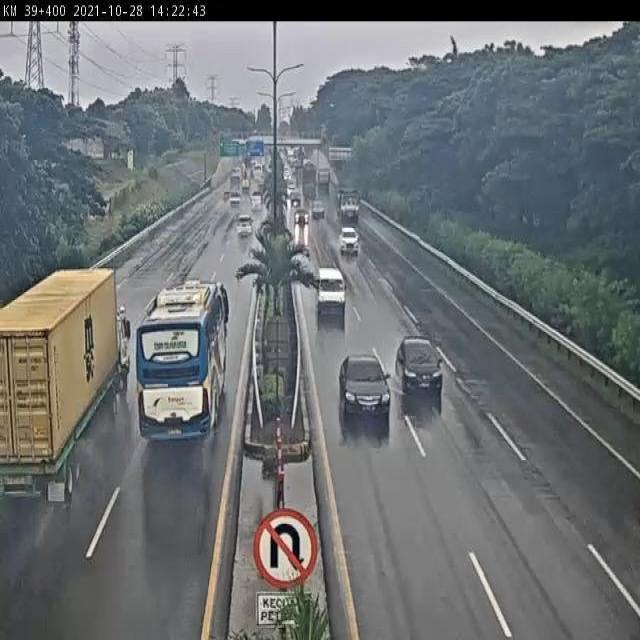big bus: (139, 278, 232, 450)
car: (335, 348, 392, 421), (395, 333, 445, 400), (312, 263, 348, 317), (337, 225, 361, 255), (236, 213, 255, 239), (309, 198, 327, 222), (294, 206, 310, 226)
truck-xl-: (0, 267, 127, 508)
